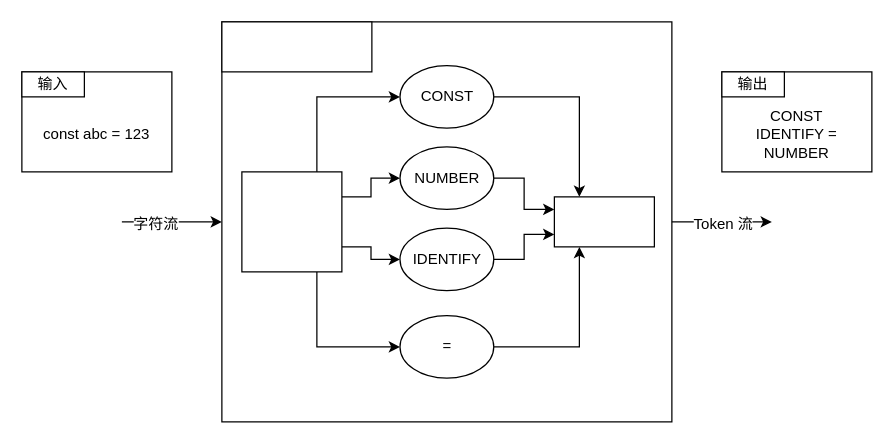
This 894x444 diagram has some shape labels left out. The centre of each missing label's shape, as x and y in pixels:
"Token" belongs at (x=603, y=221).
"状态机" belongs at (x=291, y=221).
"词法分析器" belongs at (x=296, y=46).
